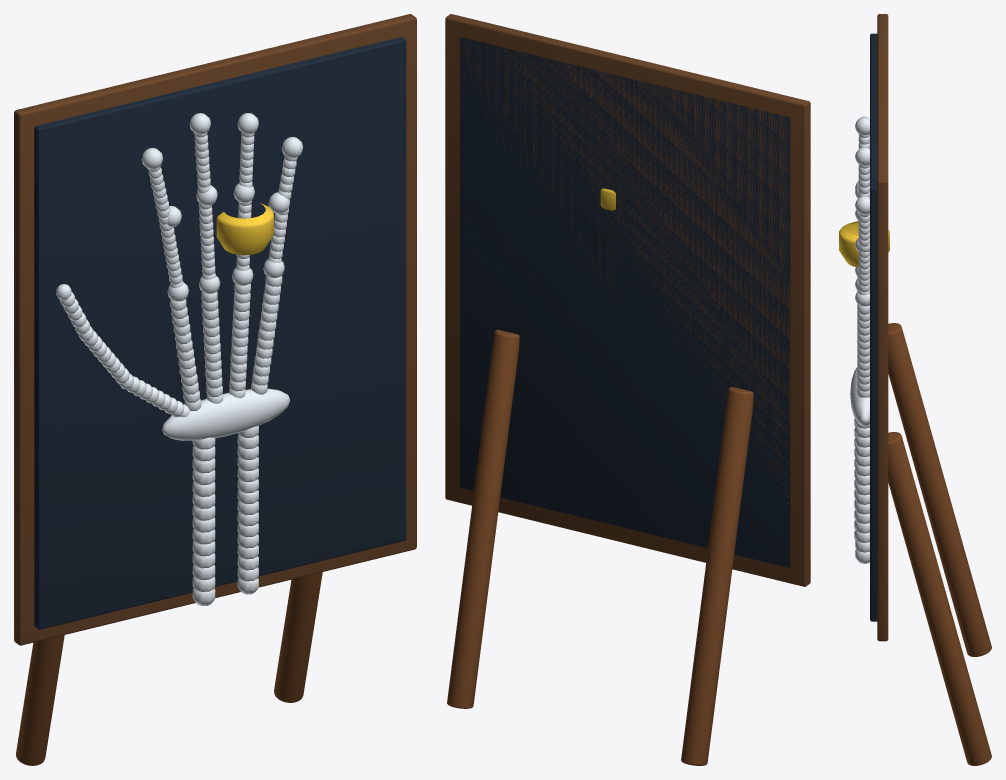
Rendered from xray_alianca.glb.
3 renders of one model, left to right at view 1: azimuth 30°, elevation 25°; view 2: azimuth 150°, elevation 25°; view 3: azimuth 270°, elevation 25°, orthographic. The views are drawn at different scales.
Parts seen in each view (by area): view 1: xray_alianca; view 2: xray_alianca; view 3: xray_alianca.
Part boxes in pixels (x1,y1,x2,y2): xray_alianca: [14, 14, 416, 765]; xray_alianca: [445, 14, 810, 765]; xray_alianca: [839, 14, 991, 765].
Size of the model in its own units: 1.08 by 1.83 by 0.4151.
